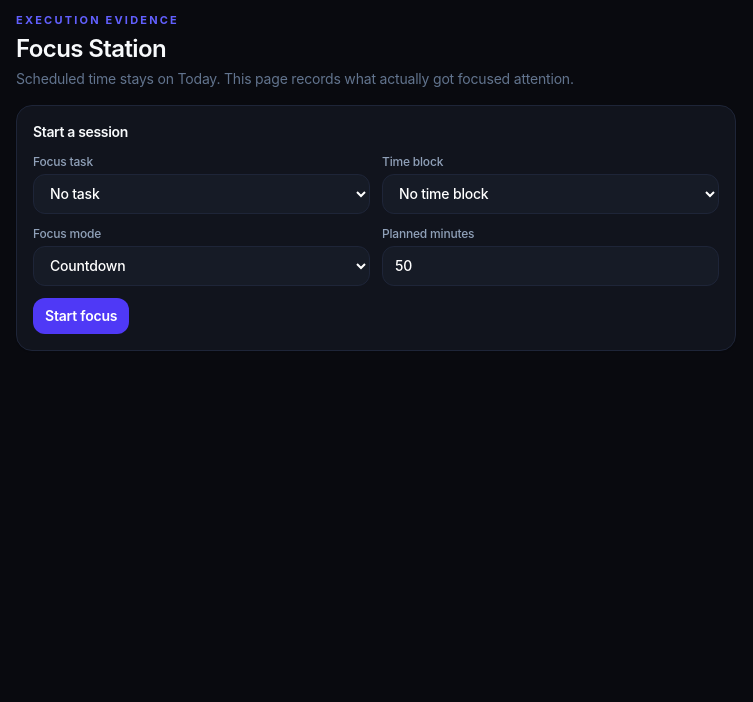
starts a countdown session for the selected work item
The width and height of the screenshot is (753, 702).
Expected: the heading "Focus Station" is shown, [16,34,166,62]
Select "Algebra" in the dropdown labelled "Focus task" at (202, 194), box [33,174,370,214]
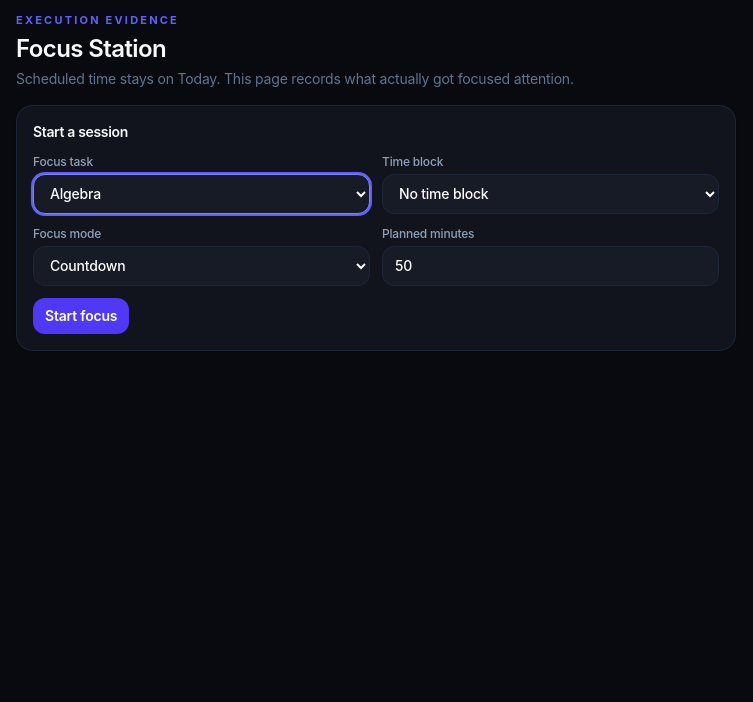
Select "Countdown" in the dropdown labelled "Focus mode" at (202, 266), box [33,246,370,286]
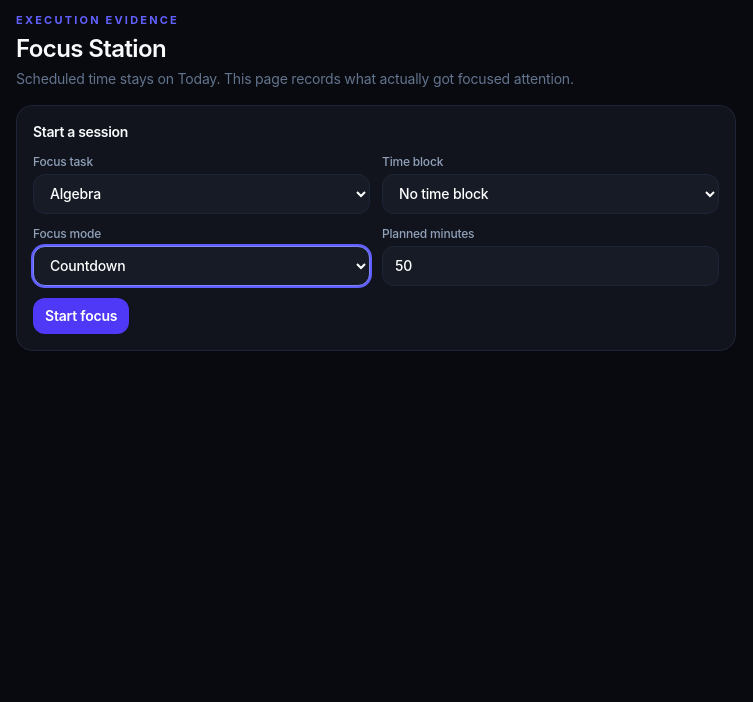
Replace the text in the number field labelled "Planned minutes" with "25" at (550, 266), box [382,246,719,286]
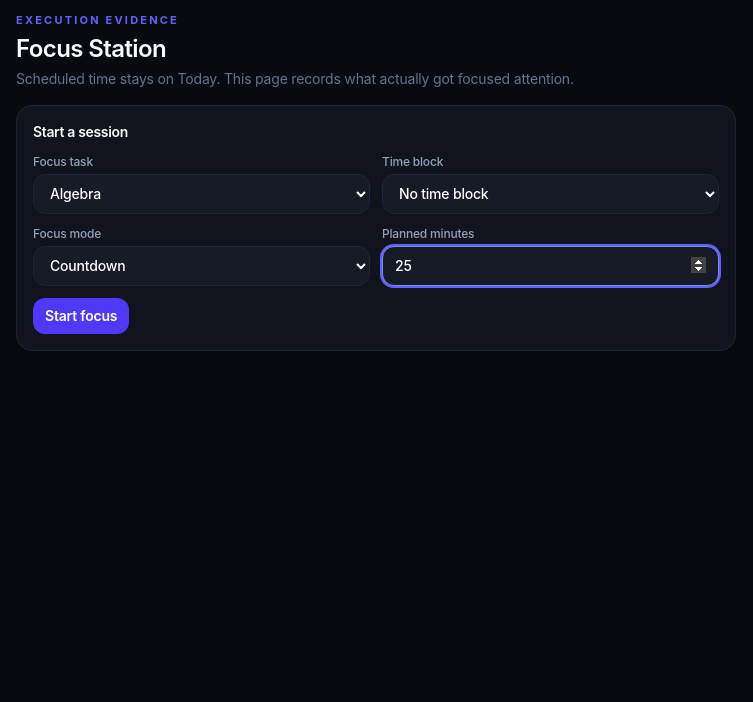
Click the button "Start focus" at (81, 316), box [33,298,129,334]
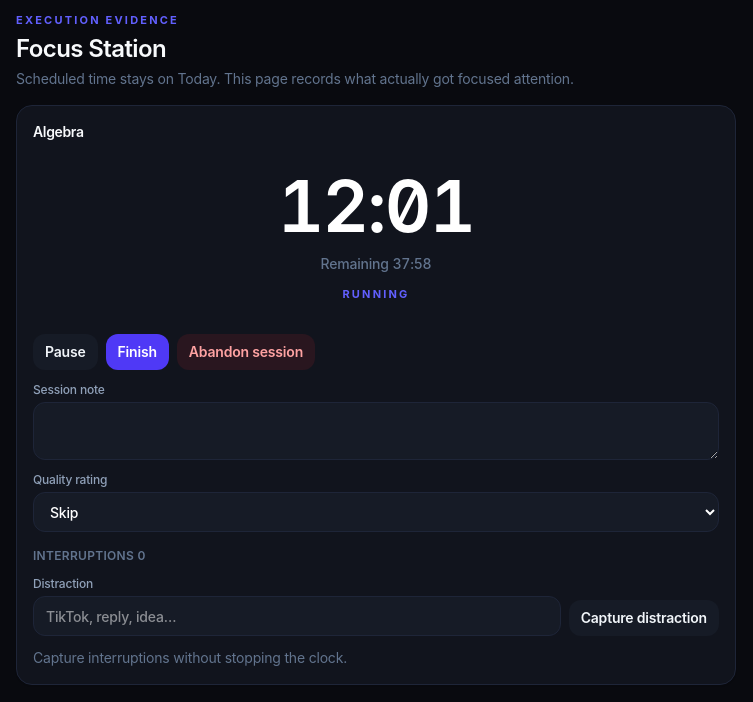
Expected: the heading "Algebra" is shown, [33,122,84,142]
Expected: the button "Pause" is shown, [33,334,98,370]
